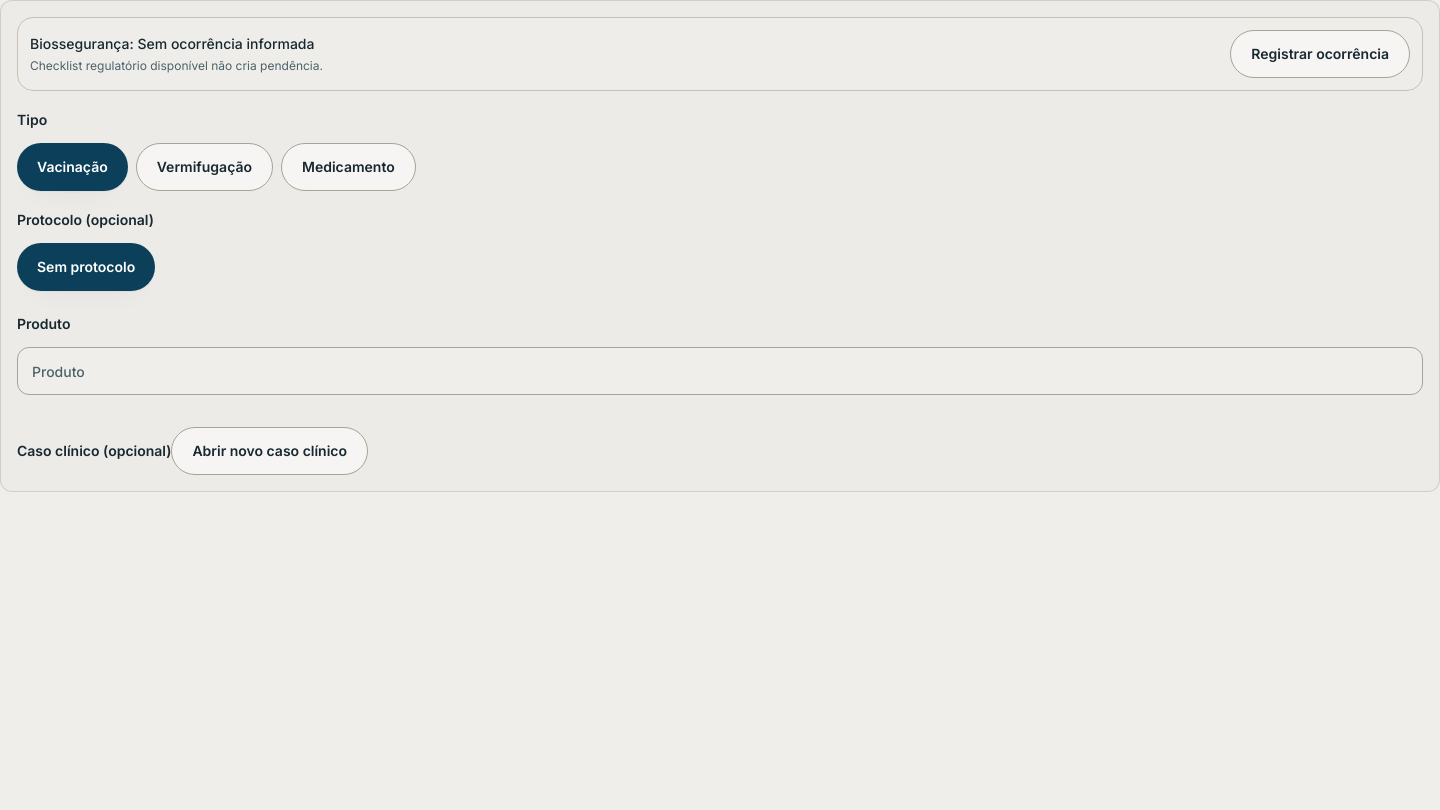
Test: RegistrarSanitarioSection › suprime opções de vínculo impossíveis para o tipo selecionado
Click the button "Registrar ocorrência": (1320, 54) [1230,30,1410,78]
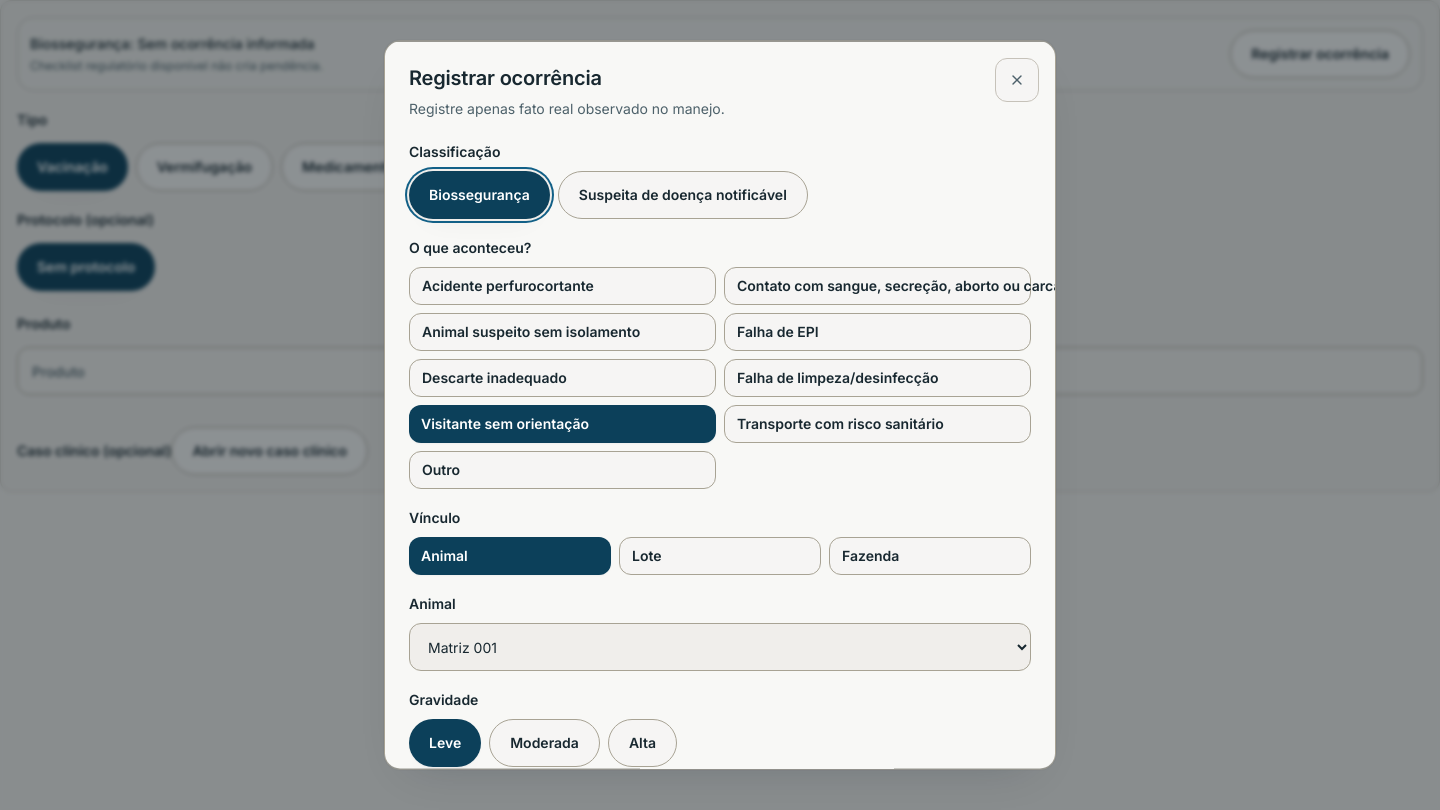
expect the button "Fazenda" is shown: met, box [829,536,1031,574]
Click the button "Visitante sem orientação": (562, 424) [409,404,716,442]
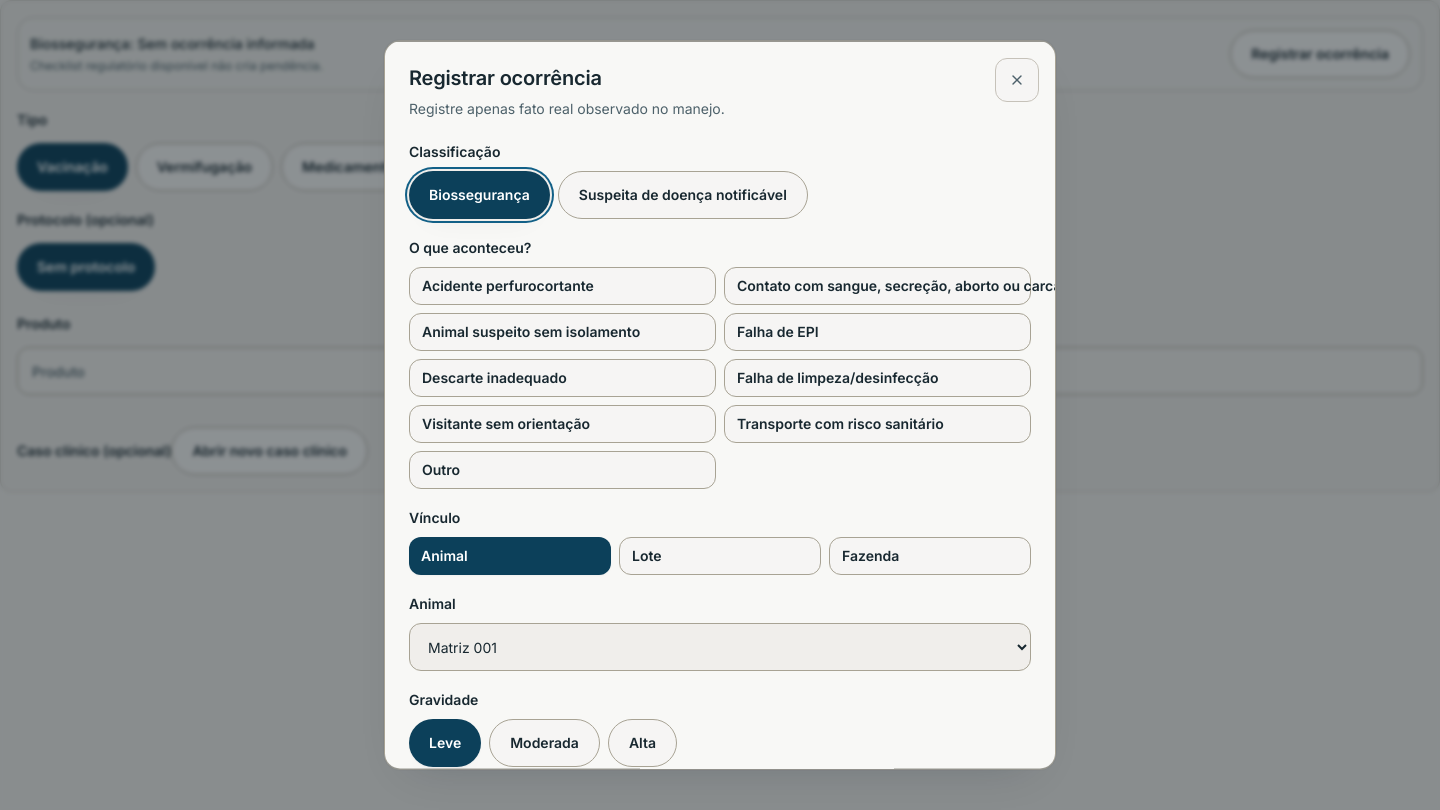
Click the button "Animal suspeito sem isolamento": (562, 332) [409,312,716,350]
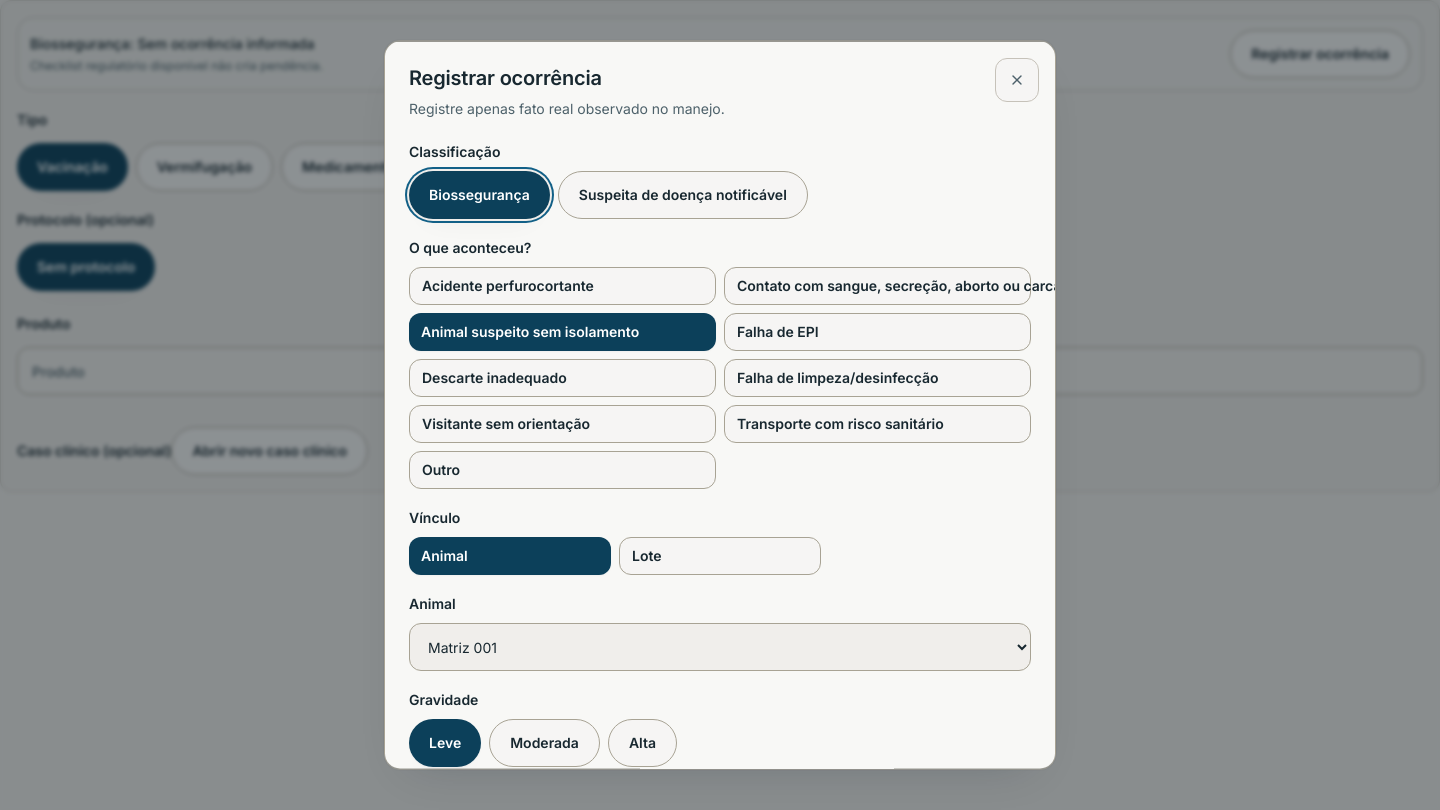
expect the button "Animal" is shown: met, box [409,536,611,574]
expect the button "Lote" is shown: met, box [619,536,821,574]
expect the button "Fazenda" is gone: met
